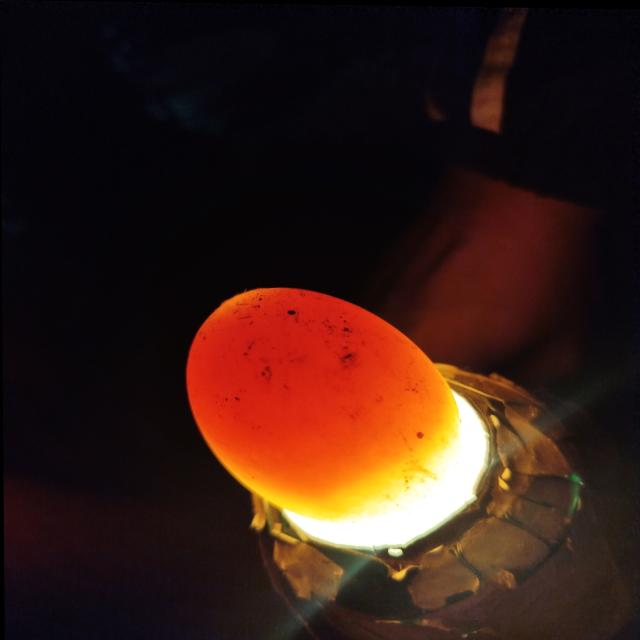Gema Quebrada: (186, 287, 440, 500)
